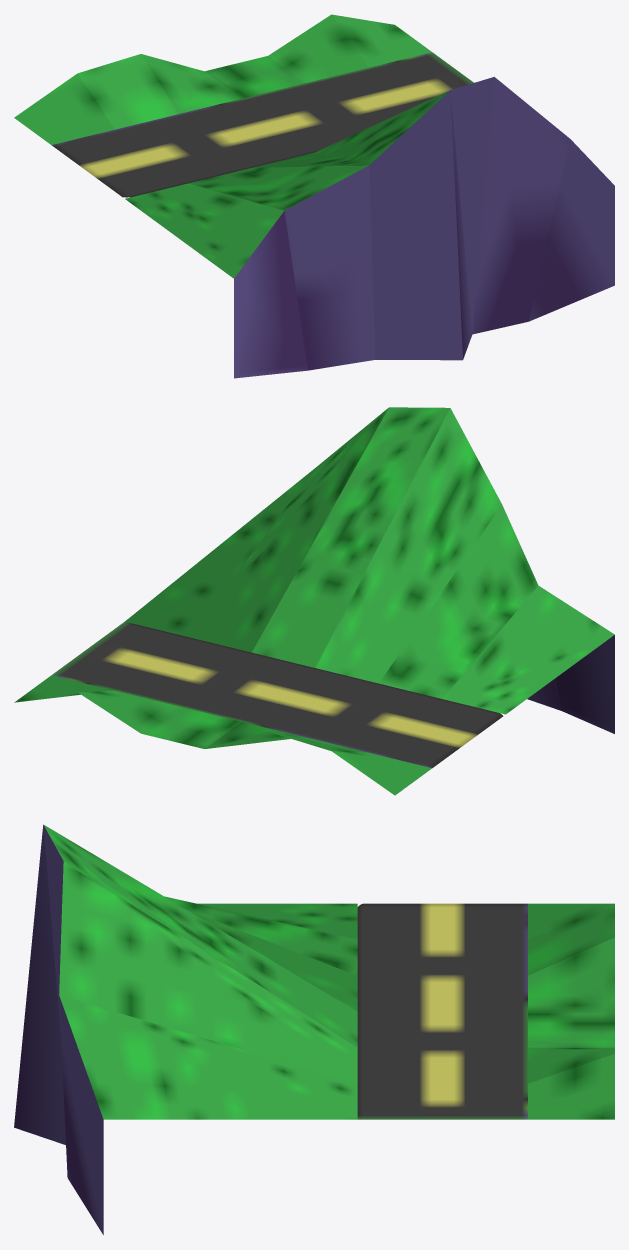
File: Suelo3.fbx
3 renders of one model, top to bottom at view 1: azimuth 30°, elevation 25°; view 2: azimuth 150°, elevation 25°; view 3: azimuth 270°, elevation 25°, orthographic. The views are drawn at different scales.
Visible parts, largest first — view 1: Cube.002; view 2: Cube.002; view 3: Cube.002.
Part boxes in pixels (box(x1,y1,x2,y2)): Cube.002: box(14, 14, 614, 378); Cube.002: box(14, 407, 614, 795); Cube.002: box(14, 824, 614, 1234).
Size of the model in its own units: 8000 by 9402 by 5236.
Materials: 1 (1 with a texture image).
